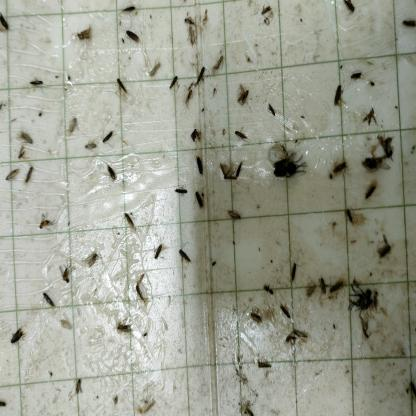prays_oleae: (344, 276, 374, 320), (379, 120, 398, 164), (376, 233, 396, 272), (57, 252, 75, 288), (363, 147, 386, 175), (31, 212, 61, 233), (80, 250, 104, 276), (216, 158, 236, 189), (133, 270, 151, 304), (233, 80, 252, 111), (398, 8, 416, 39), (293, 324, 316, 348), (227, 200, 246, 229), (114, 317, 135, 343), (125, 25, 144, 53), (257, 354, 276, 380), (176, 243, 193, 270), (40, 289, 58, 314), (364, 178, 379, 206), (115, 75, 131, 101), (332, 152, 348, 178), (329, 274, 345, 299), (7, 328, 28, 347), (118, 0, 140, 18), (0, 9, 12, 42), (18, 129, 37, 149), (248, 306, 264, 329), (124, 209, 138, 235), (72, 372, 85, 400), (145, 60, 162, 81), (166, 72, 182, 94), (304, 278, 318, 303), (194, 64, 209, 87), (64, 114, 79, 137), (25, 74, 44, 92), (236, 152, 247, 183), (196, 152, 208, 180), (333, 86, 347, 110), (213, 49, 227, 73), (16, 147, 31, 169), (152, 239, 165, 264), (234, 128, 252, 146), (267, 98, 280, 122), (185, 24, 197, 50), (278, 302, 292, 324), (4, 166, 21, 184), (98, 130, 117, 146), (193, 184, 205, 209), (349, 70, 366, 87), (107, 166, 121, 186), (184, 89, 195, 114), (174, 182, 190, 199), (81, 140, 97, 156), (364, 105, 376, 126), (290, 260, 300, 283), (24, 167, 36, 186), (259, 3, 273, 19), (262, 281, 274, 299), (285, 327, 294, 350), (342, 1, 355, 16), (319, 276, 326, 298)
